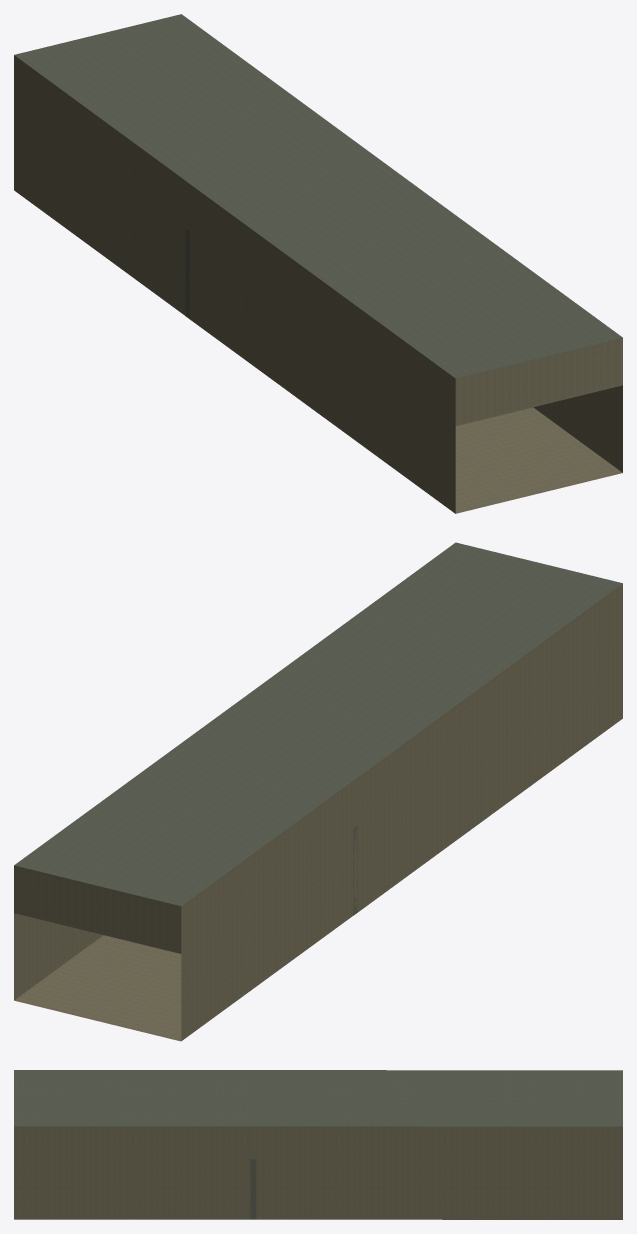
File: Fortress_Cube_2.fbx
3 renders of one model, top to bottom at view 1: azimuth 30°, elevation 25°; view 2: azimuth 150°, elevation 25°; view 3: azimuth 270°, elevation 25°, orthographic. The views are drawn at different scales.
Visible parts, largest first — view 1: Sect3EndRaisedCastle__3_, Sect3EndRaisedCastle__2_; view 2: Sect3EndRaisedCastle__2_, Sect3EndRaisedCastle__3_; view 3: Sect3EndRaisedCastle__2_, Sect3EndRaisedCastle__3_.
Part boxes in pixels (left/top/right/bottom): Sect3EndRaisedCastle__3_: left=185, top=140, right=622, bottom=513; Sect3EndRaisedCastle__2_: left=14, top=14, right=450, bottom=416; Sect3EndRaisedCastle__2_: left=14, top=668, right=490, bottom=1041; Sect3EndRaisedCastle__3_: left=186, top=542, right=622, bottom=915; Sect3EndRaisedCastle__2_: left=250, top=1070, right=622, bottom=1219; Sect3EndRaisedCastle__3_: left=14, top=1070, right=386, bottom=1219.
Bounding box in the file's own units: 1103 × 850 × 5027.
